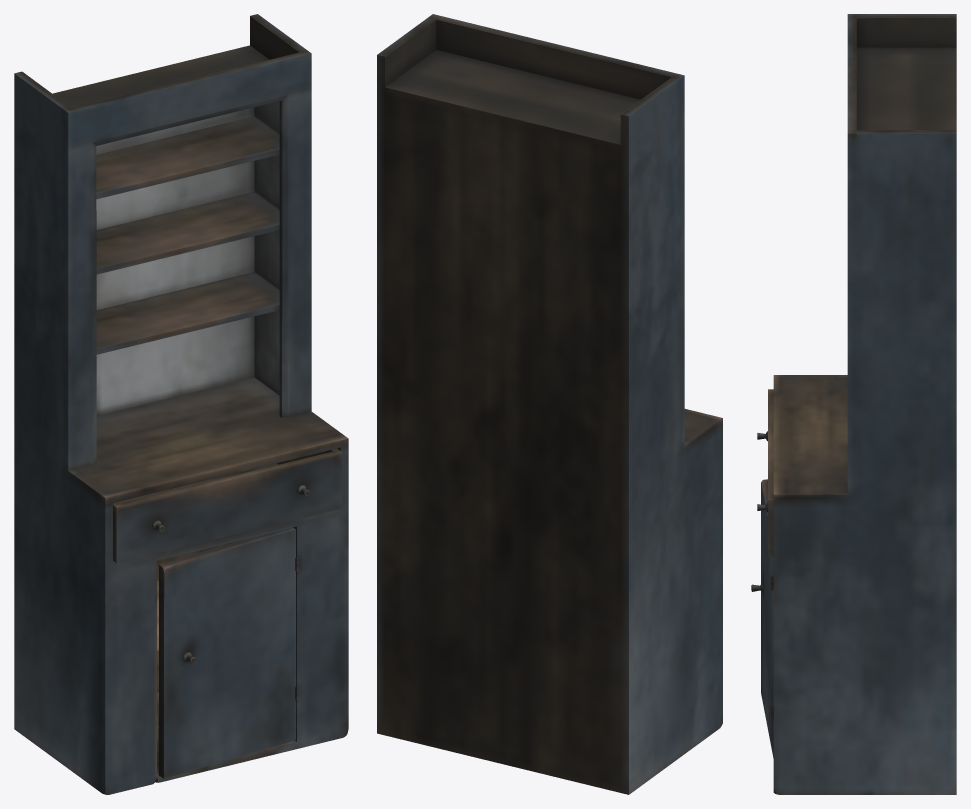
Rendered from painted_wooden_cabinet_02.fbx.
The picture shows the model from 3 angles, left to right: view 1: azimuth 30°, elevation 25°; view 2: azimuth 150°, elevation 25°; view 3: azimuth 270°, elevation 25°; orthographic projection. The views are drawn at different scales.
Visible parts, largest first — view 1: painted_wooden_cabinet_02; view 2: painted_wooden_cabinet_02; view 3: painted_wooden_cabinet_02.
Boxes of the visible parts, x1,y1,x2,y2 form: painted_wooden_cabinet_02: [14, 14, 348, 794]; painted_wooden_cabinet_02: [377, 14, 722, 794]; painted_wooden_cabinet_02: [751, 14, 956, 794].
Size of the model in its own units: 0.9969 by 2.57 by 0.7223.
